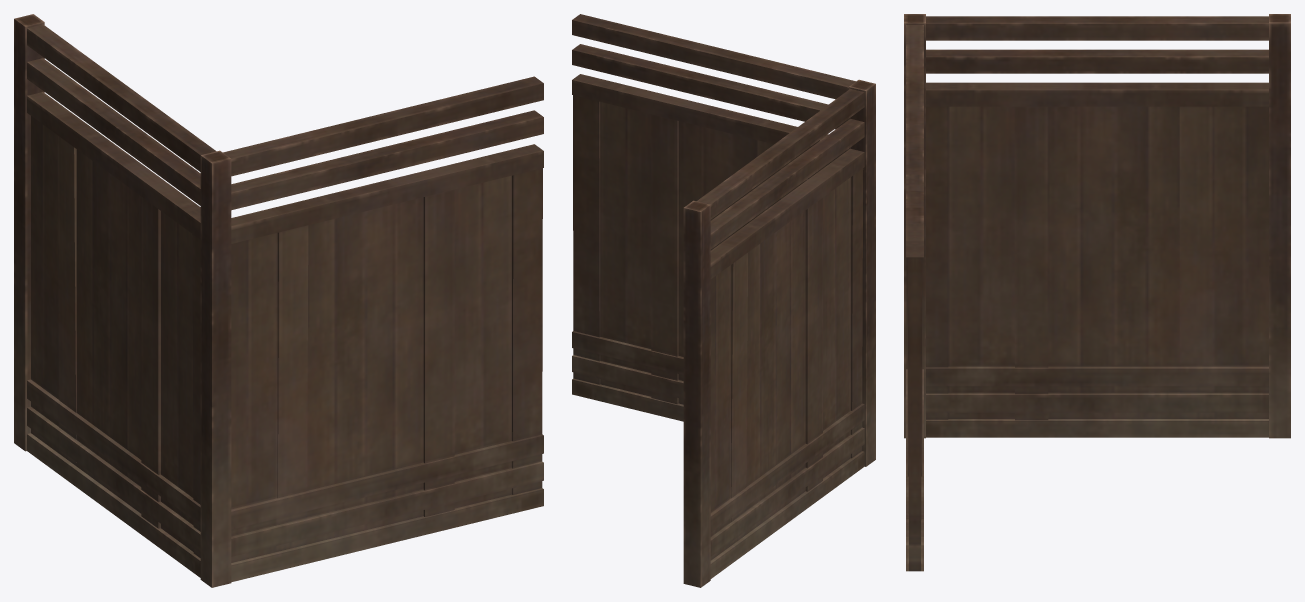
Rendered from Wall_07c.fbx.
3 renders of one model, left to right at view 1: azimuth 30°, elevation 25°; view 2: azimuth 150°, elevation 25°; view 3: azimuth 270°, elevation 25°, orthographic. The views are drawn at different scales.
Visible parts, largest first — view 1: SM_cmn_build_Wall_07e.mo; view 2: SM_cmn_build_Wall_07e.mo; view 3: SM_cmn_build_Wall_07e.mo.
Boxes of the visible parts, bbox=[...] form: SM_cmn_build_Wall_07e.mo: bbox=[14, 14, 543, 587]; SM_cmn_build_Wall_07e.mo: bbox=[572, 14, 875, 587]; SM_cmn_build_Wall_07e.mo: bbox=[904, 14, 1290, 571].
Size of the model in its own units: 206 by 251 by 212.
Materials: 1 (1 with a texture image).
